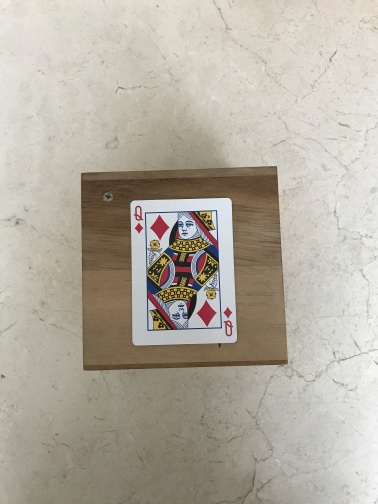queen: (129, 197, 237, 347)
